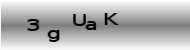3: (25, 18, 40, 32)
K: (104, 12, 119, 26)
U: (71, 13, 86, 26)
a: (85, 20, 96, 30)
g: (46, 27, 60, 44)
